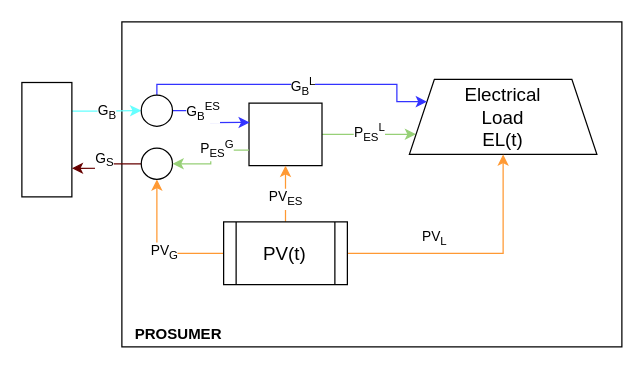
Image size: 644x369. Some labels were removed from this diagram. Each missing label, with the centre of its shape:
"Electrical Storage b(t)" belongs at point 285,134.
"GRID" belongs at point 46,139.
